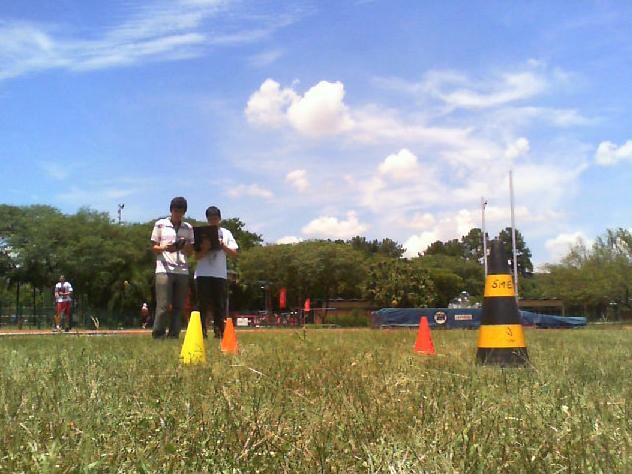0 cone: (475, 238, 530, 368), (180, 312, 206, 362), (415, 317, 434, 354), (220, 317, 238, 354)
